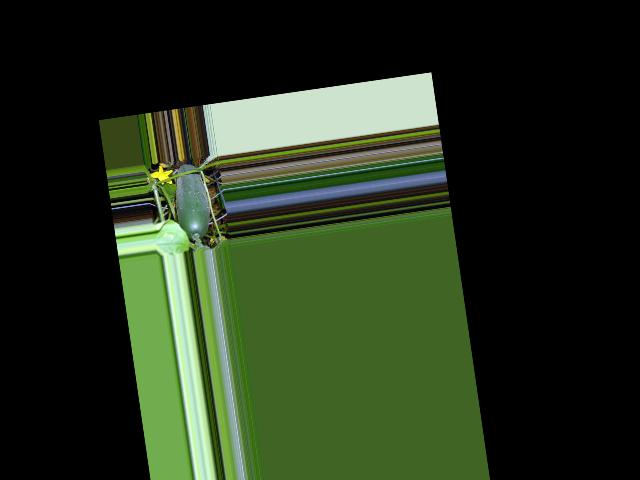cucumber: (170, 162, 213, 242)
